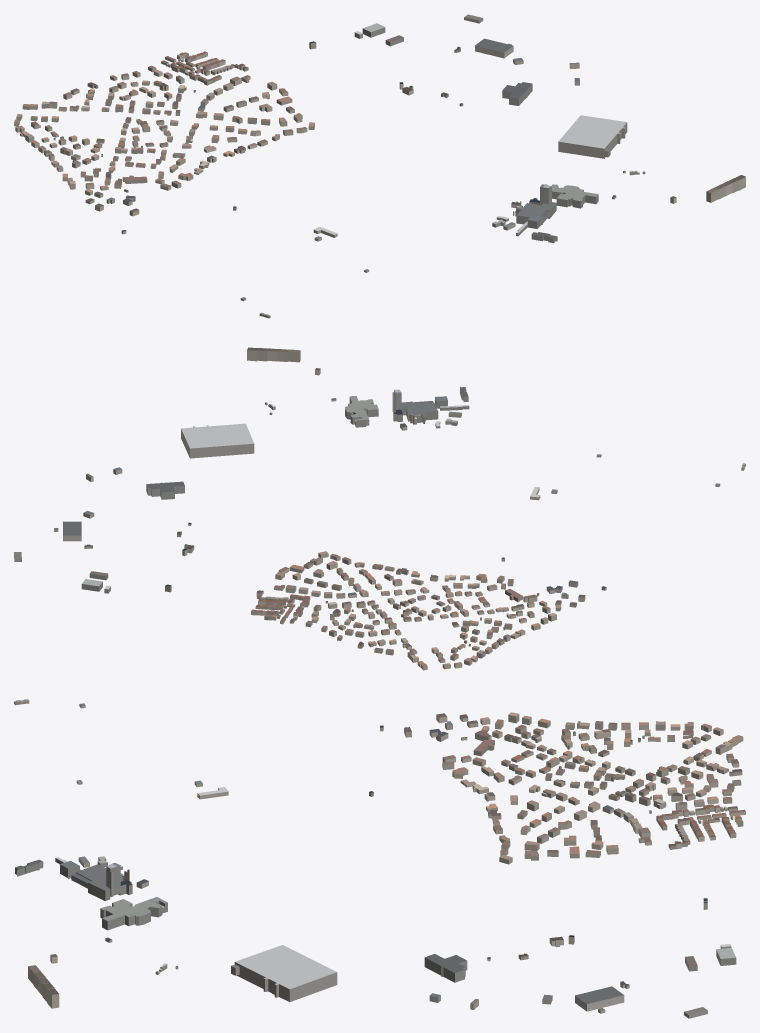
3 views of the same model, one above another, from view 1: azimuth 30°, elevation 25°; view 2: azimuth 150°, elevation 25°; view 3: azimuth 270°, elevation 25° (orthographic). The views are drawn at different scales.
Parts seen in each view (by area): view 1: tuile; view 2: tuile; view 3: tuile.
Part boxes in pixels (x1=…): tuile: x1=14, y1=14, x2=745, y2=318; tuile: x1=14, y1=347, x2=745, y2=670; tuile: x1=14, y1=699, x2=745, y2=1018.
Bounding box in the file's own units: 998 × 91.3 × 1001.
